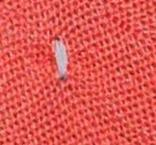hole: (45, 35, 73, 81)
